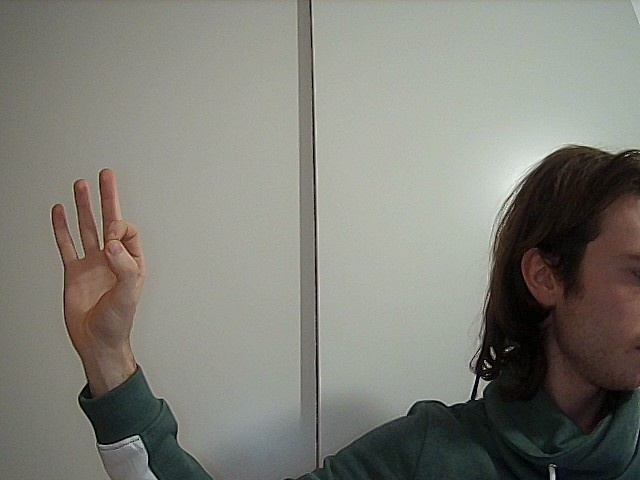f: (36, 159, 167, 339)
